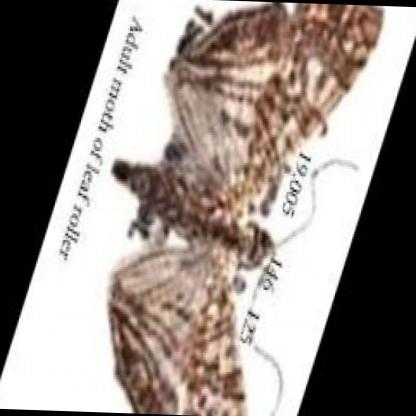Leaf Webber: (105, 2, 385, 415)
